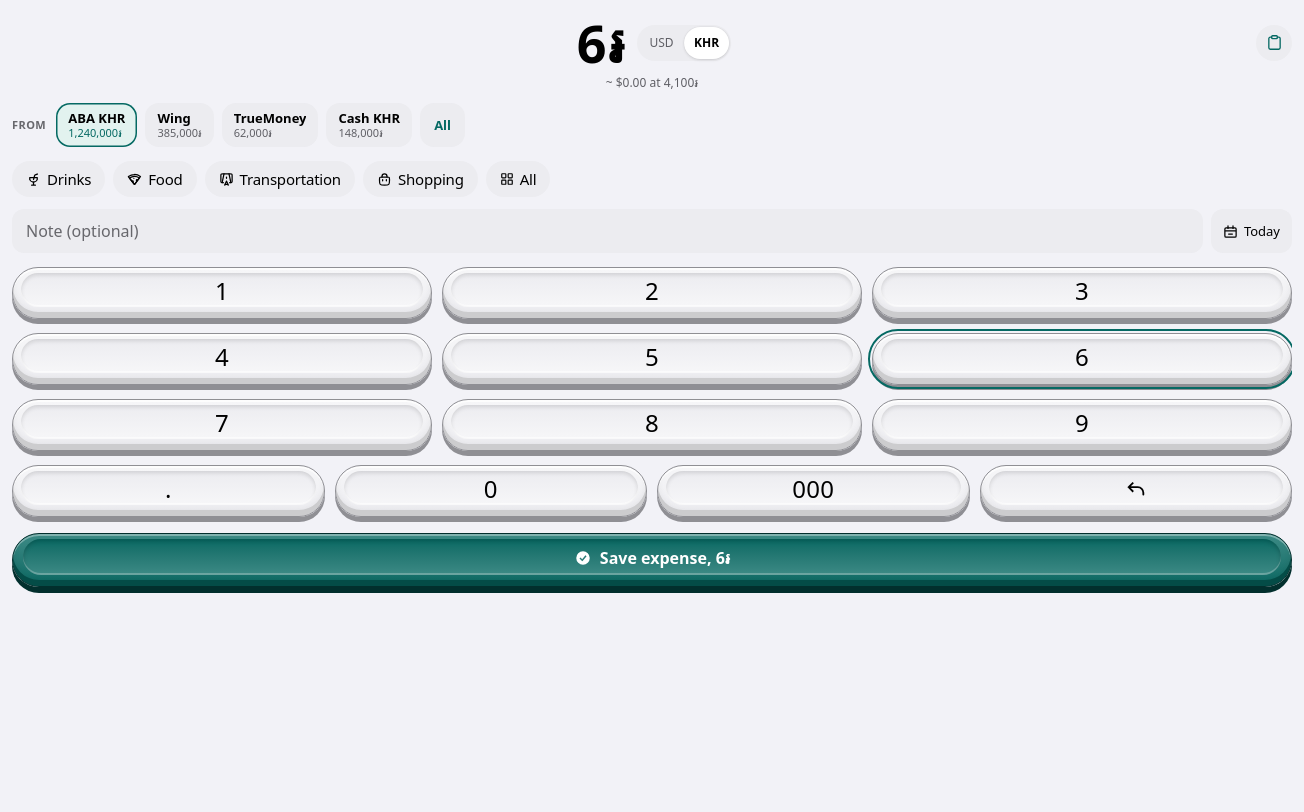
transaction save feedback › fills Drinks and Coffee for the learned KHR amount and keeps user edits
Earlier steps of the test are not shown.
Later steps or results of the test are not shown.
Click the button "0" at (491, 491), box [334,465,647,517]
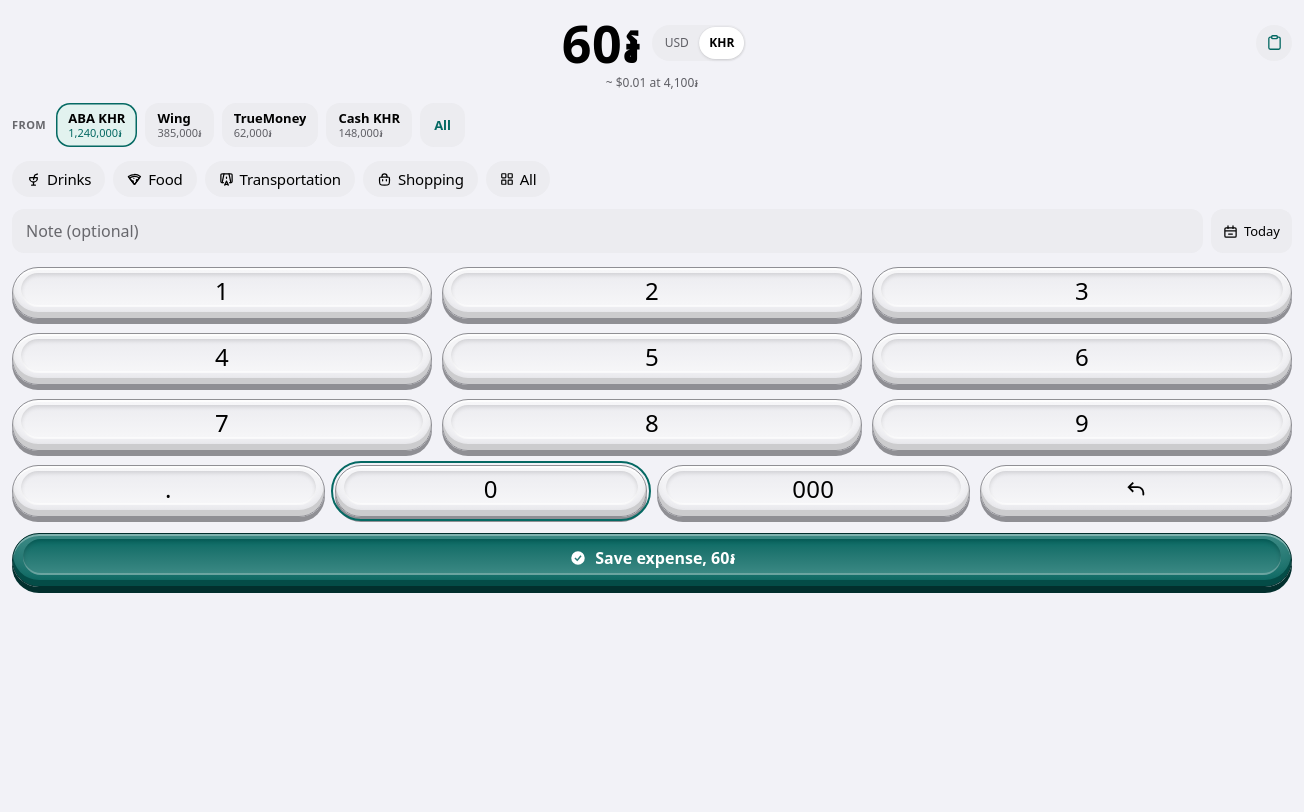
Click the button "0" at (491, 491), box [334,465,647,517]
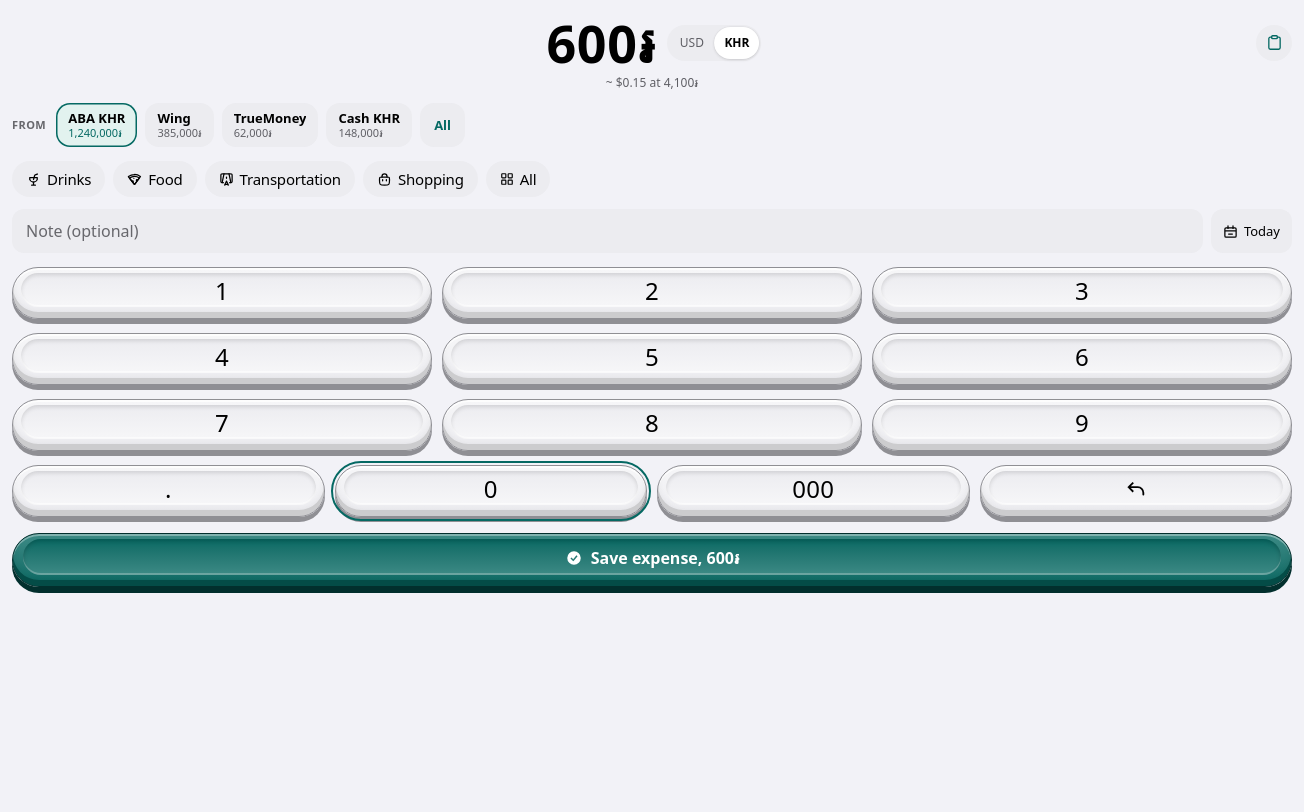
Click the button "0" at (491, 491), box [334,465,647,517]
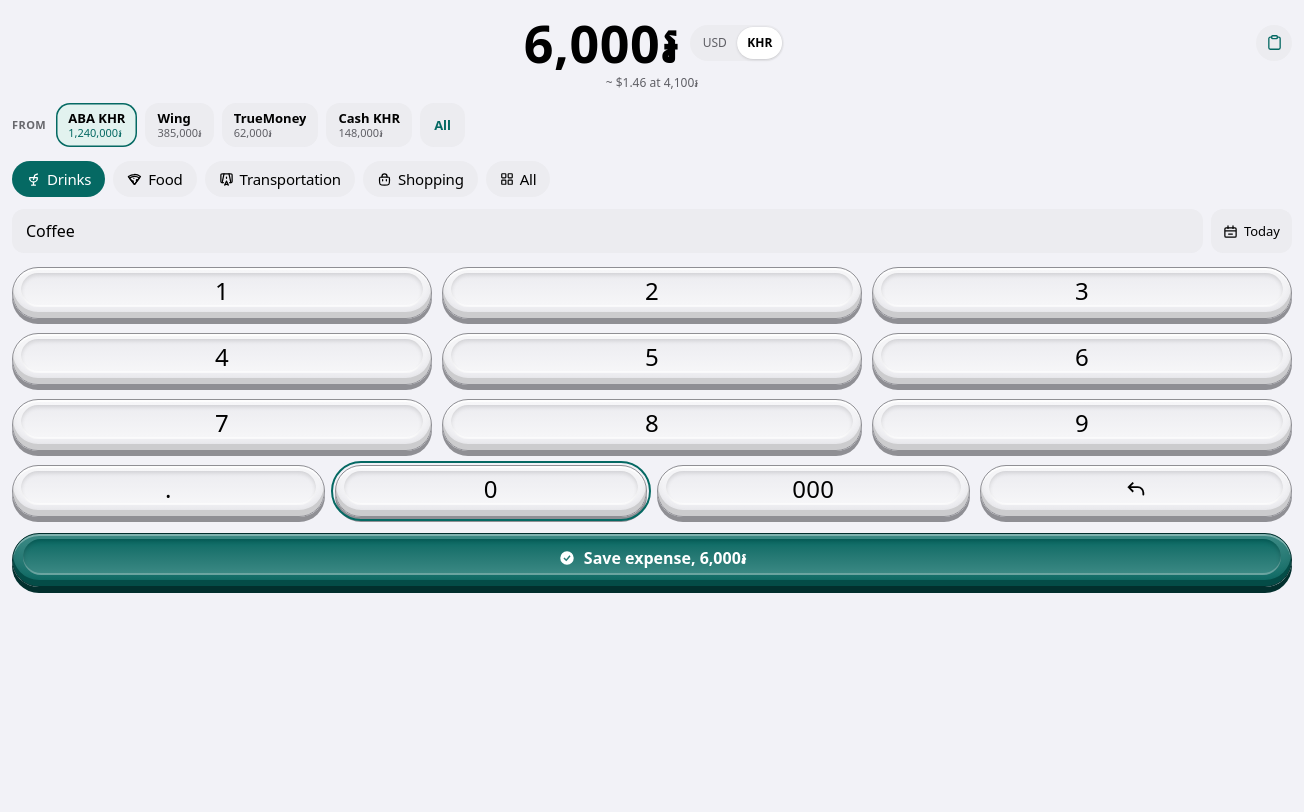
Check: the field named "Note" holds "Coffee", box [12,209,1203,253]
Click the button "Save expense, 6,000៛" at (652, 560), box [12,533,1292,587]
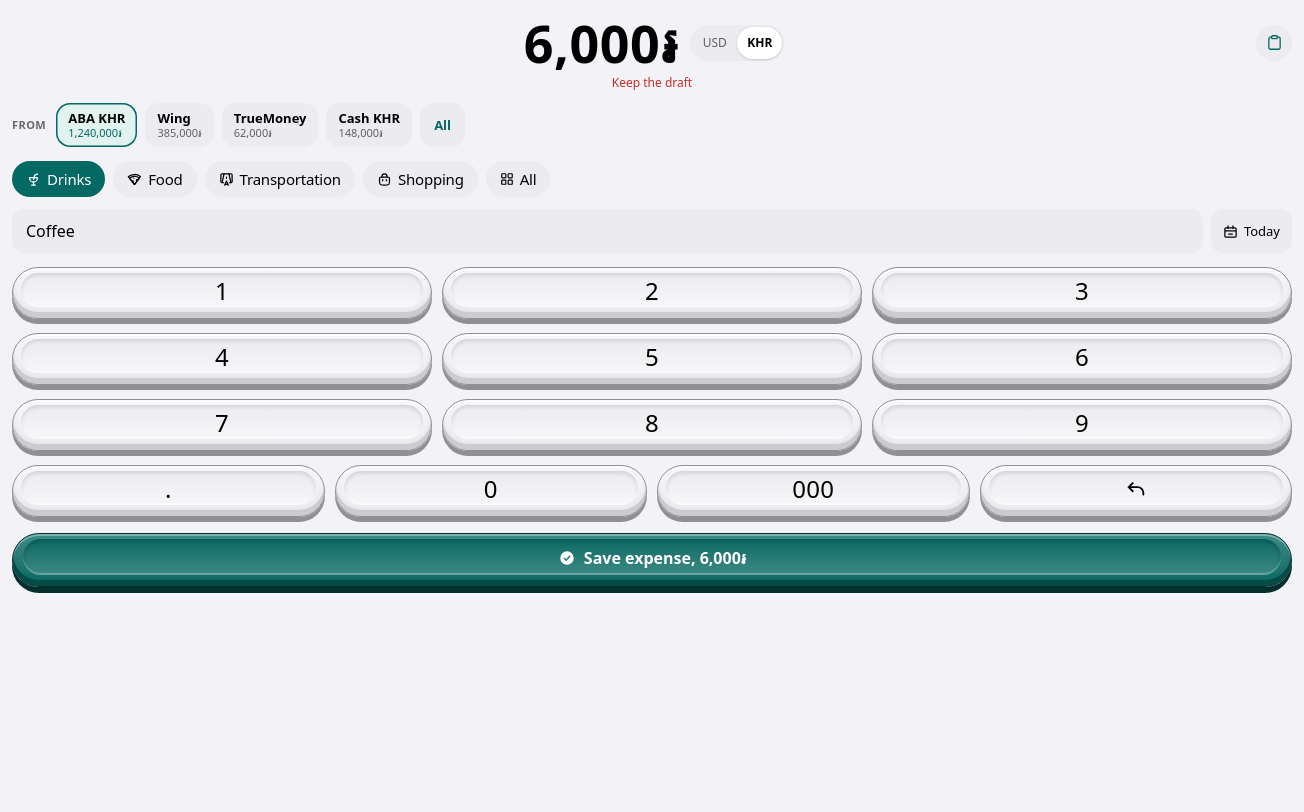
Replace the text in the field named "Note" with "Lunch" at (607, 231), box [12,209,1203,253]
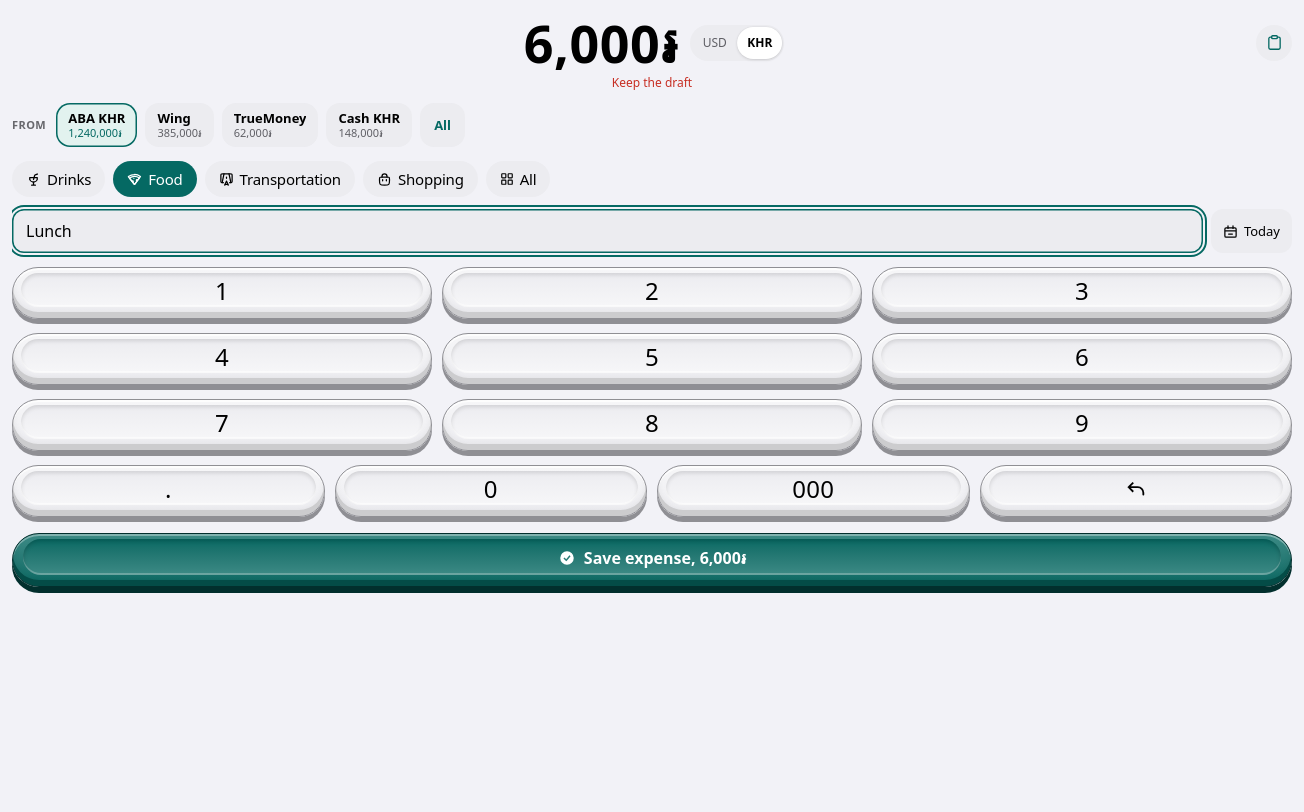
Check: the button "Food" is pressed
Click the button "Food" at (155, 179), box [113,161,196,197]
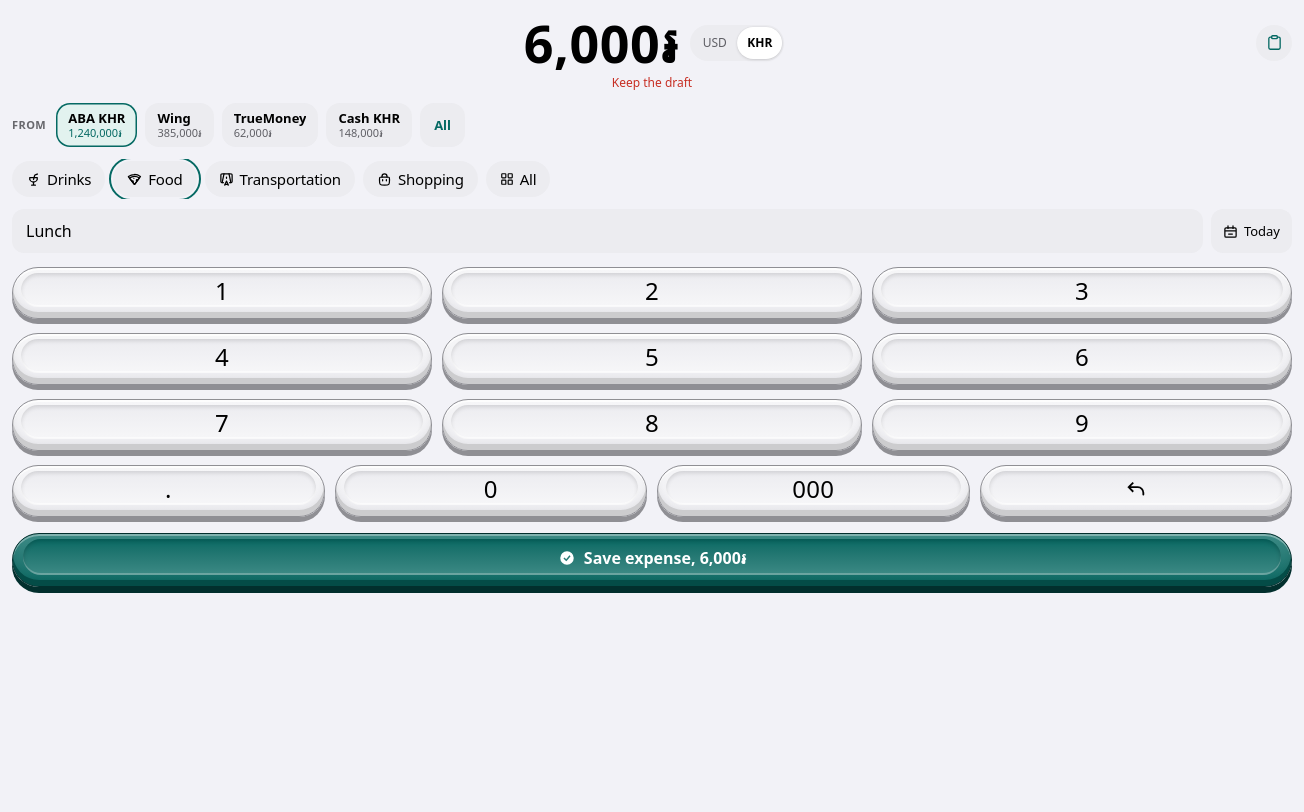
Check: the button "Food" is not pressed, box [113,161,196,197]
